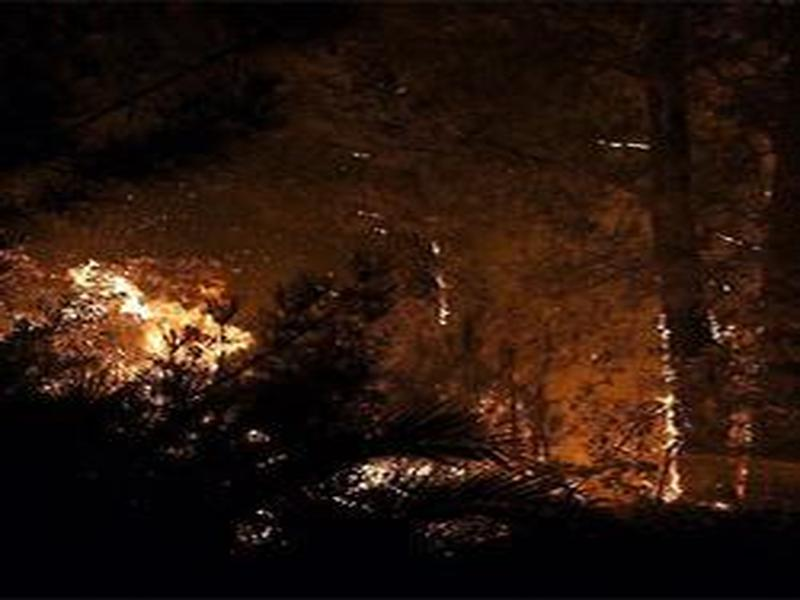FIRE: (19, 220, 411, 450)
